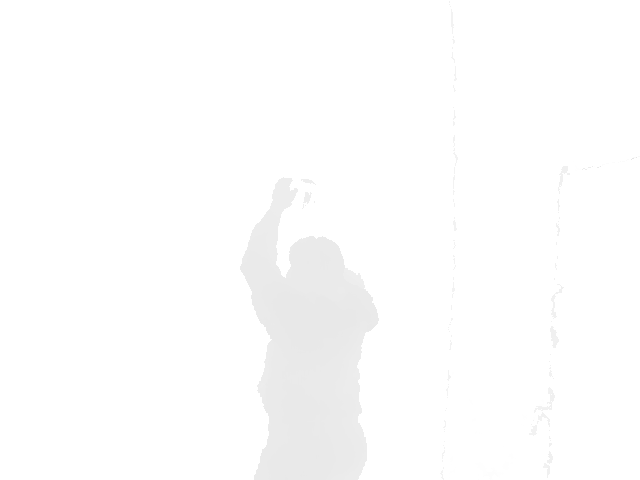hand: (270, 177, 298, 209)
head: (286, 234, 347, 294)
person: (239, 177, 380, 479)
